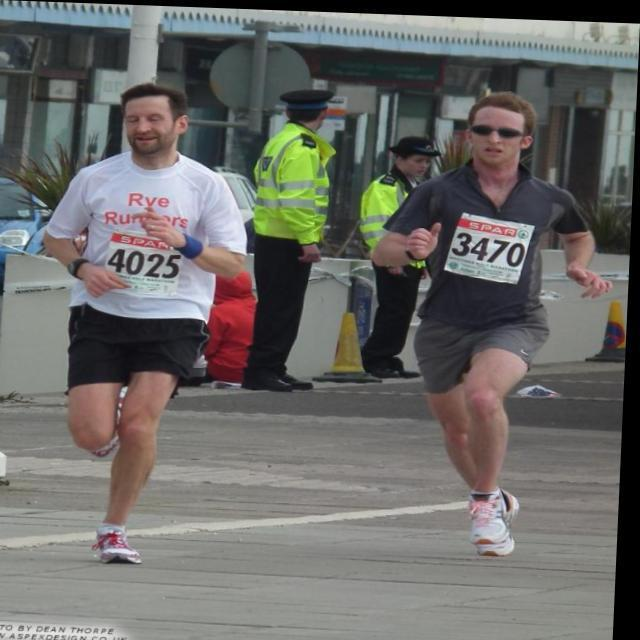dorsal: (438, 201, 546, 288), (96, 226, 195, 304)
